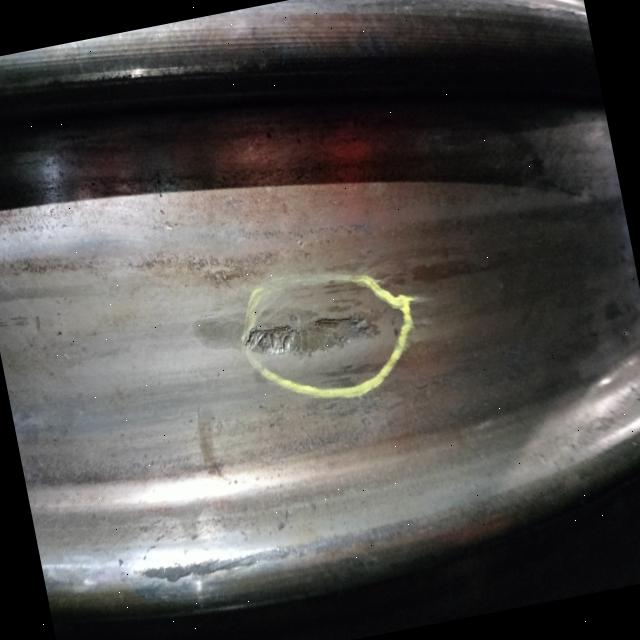Peeling: (246, 299, 383, 371)
